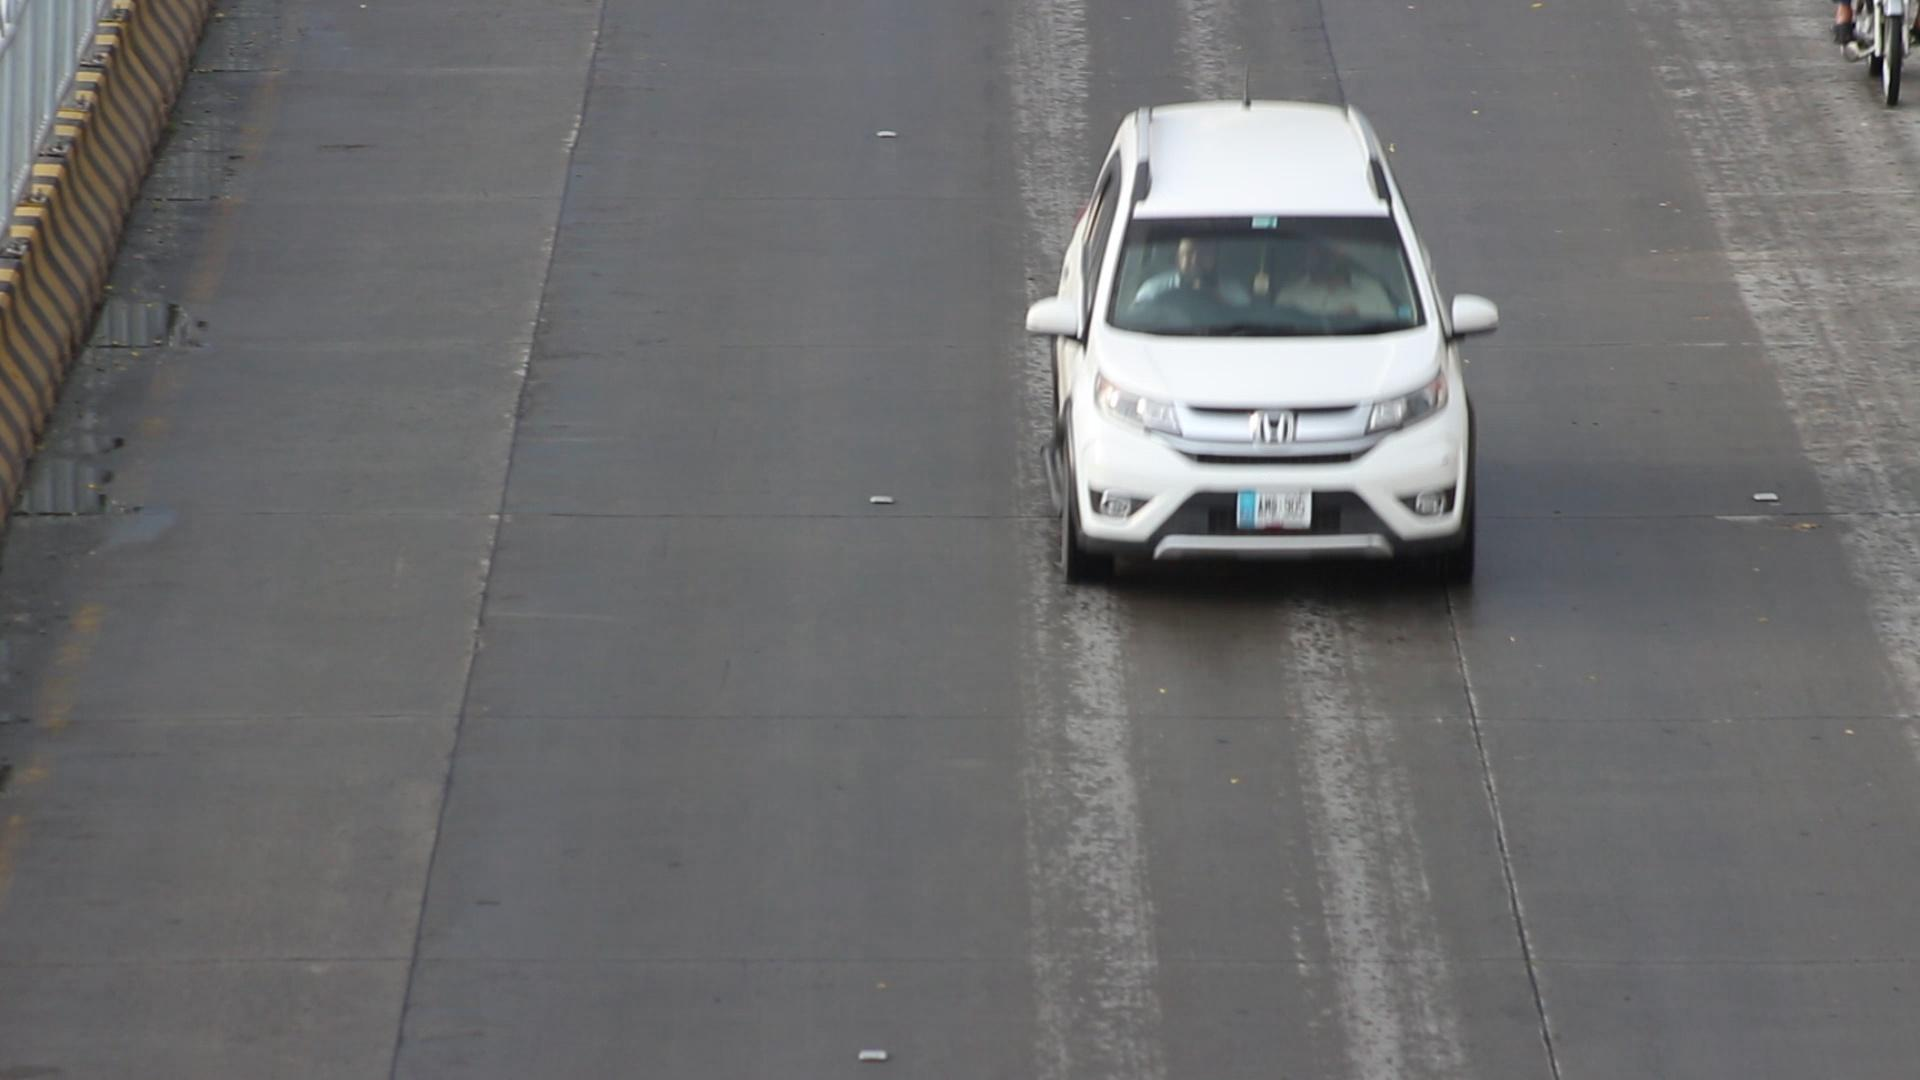windshield: (1095, 203, 1437, 340)
